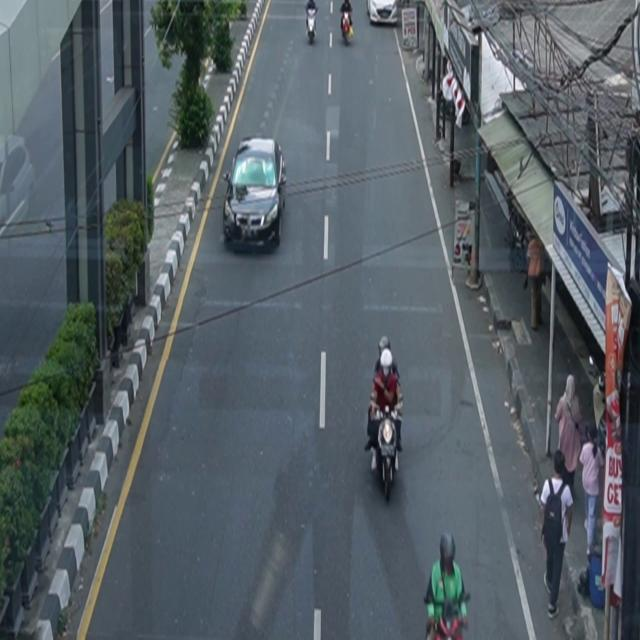car: (223, 136, 288, 251), (367, 1, 398, 26)
